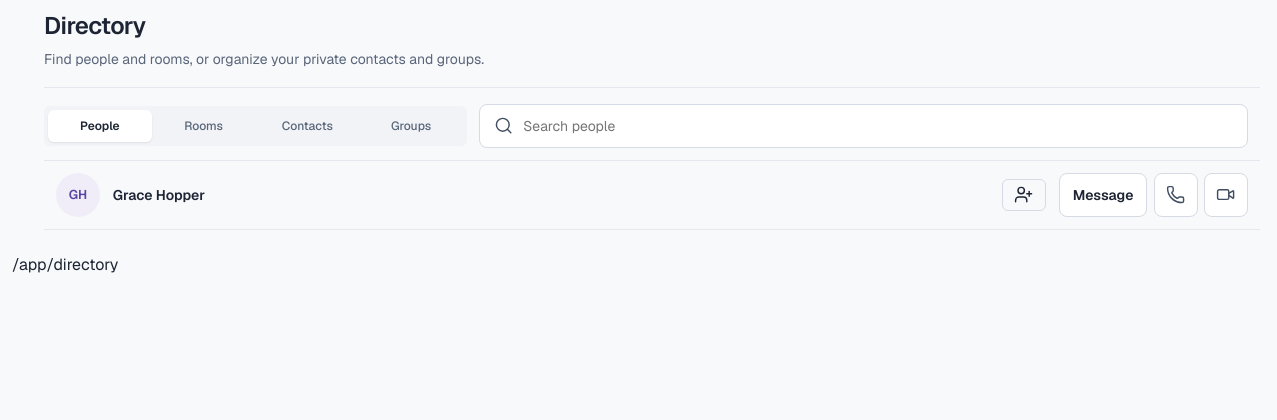
Test: DirectoryPage › keeps the public room list and retries a failed join on its row
Check: the list named "People" is shown, box [44,161,1260,230]
Click the button "Rooms" at (204, 126), box [152,110,255,142]
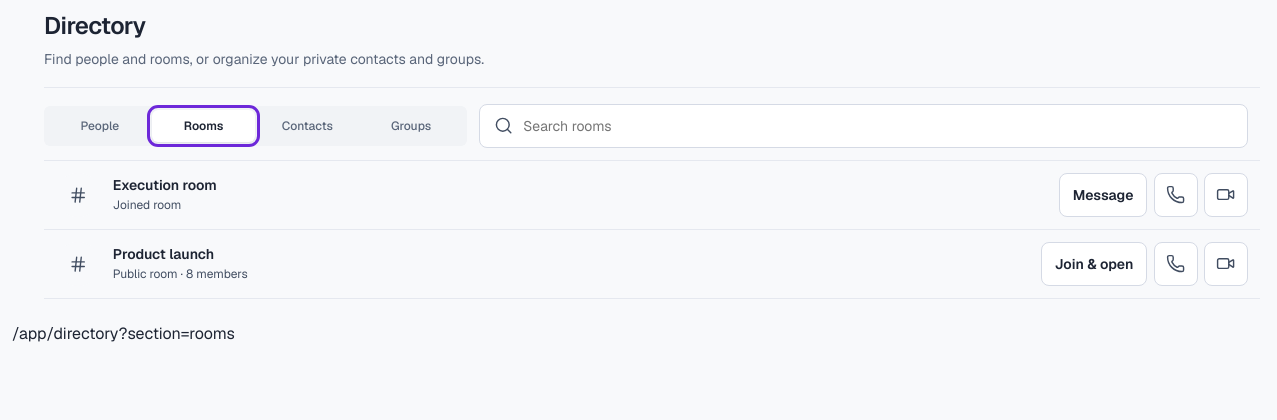
Click the button with aria-label "Join & open Product launch" at (1094, 264), box [1041,242,1147,286]
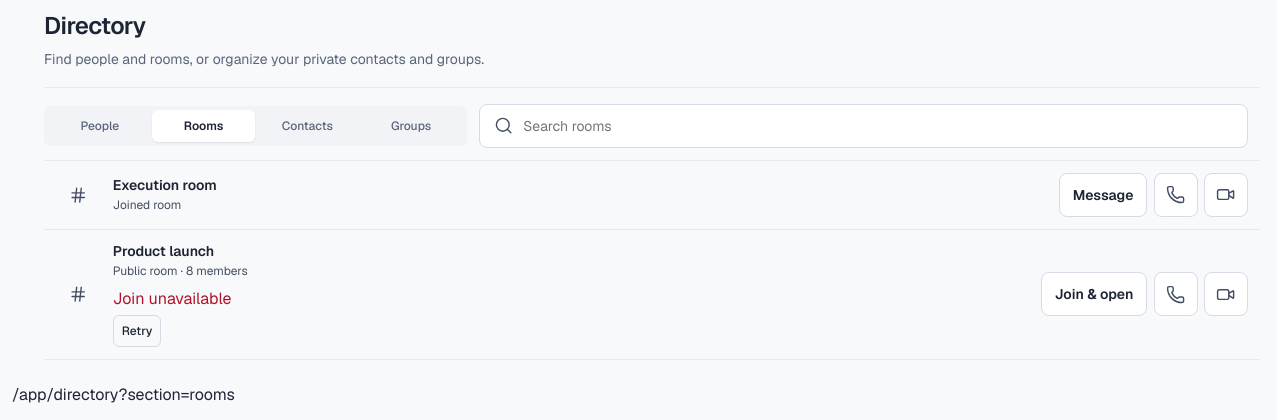
Check: the text "Execution room" is shown, box [113,176,217,194]
Click the button with aria-label "Retry action for Product launch" at (137, 331), box [113,315,161,347]
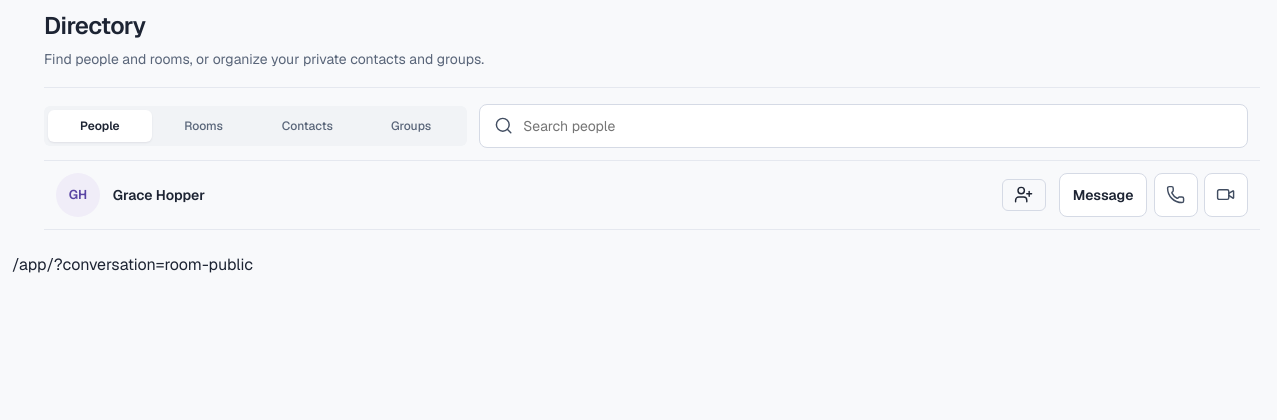
Check: the text named "location" shows "conversation=room-public", box [12,254,253,275]
